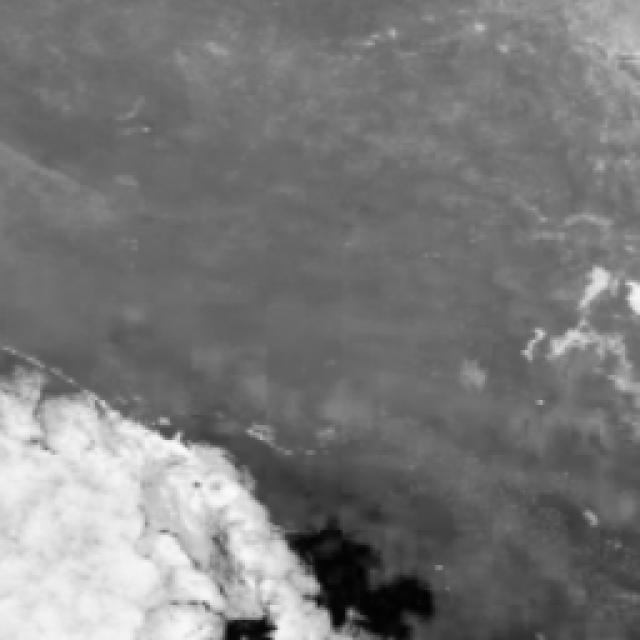CB: (2, 447, 180, 640)
